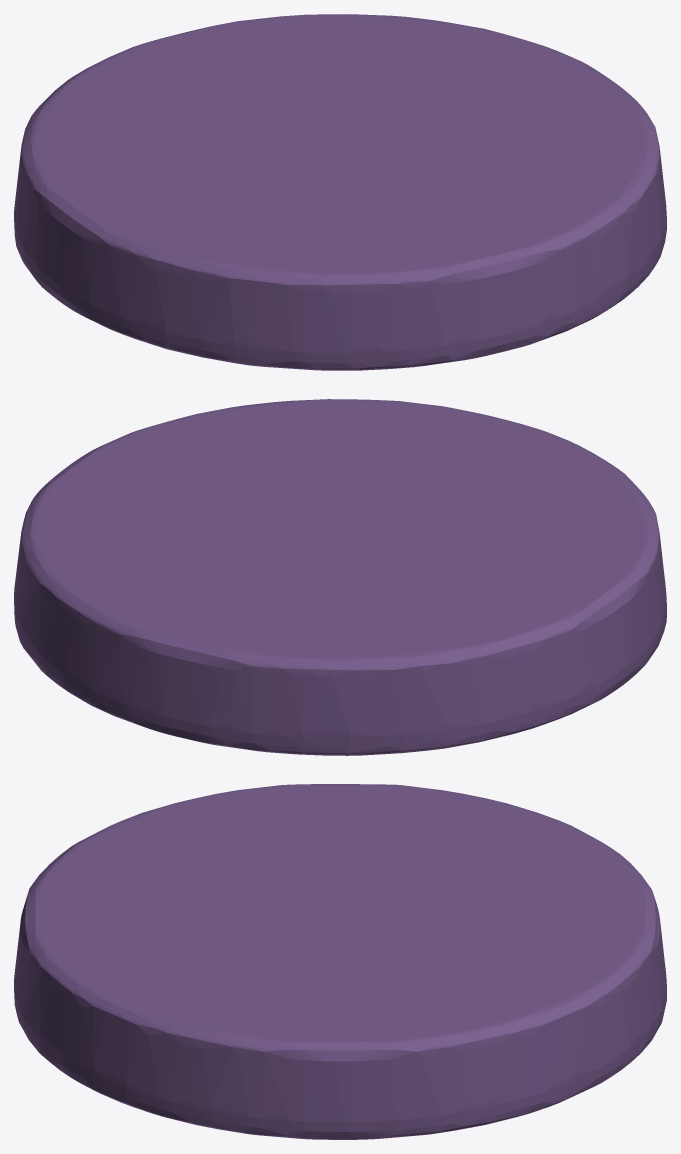
Rendered from left_hip_pitch_link_part_1.obj.
3 views of the same model, one above another, from view 1: azimuth 30°, elevation 25°; view 2: azimuth 150°, elevation 25°; view 3: azimuth 270°, elevation 25° (orthographic).
Size of the model in its own units: 0.1108 by 0.0175 by 0.1108.
